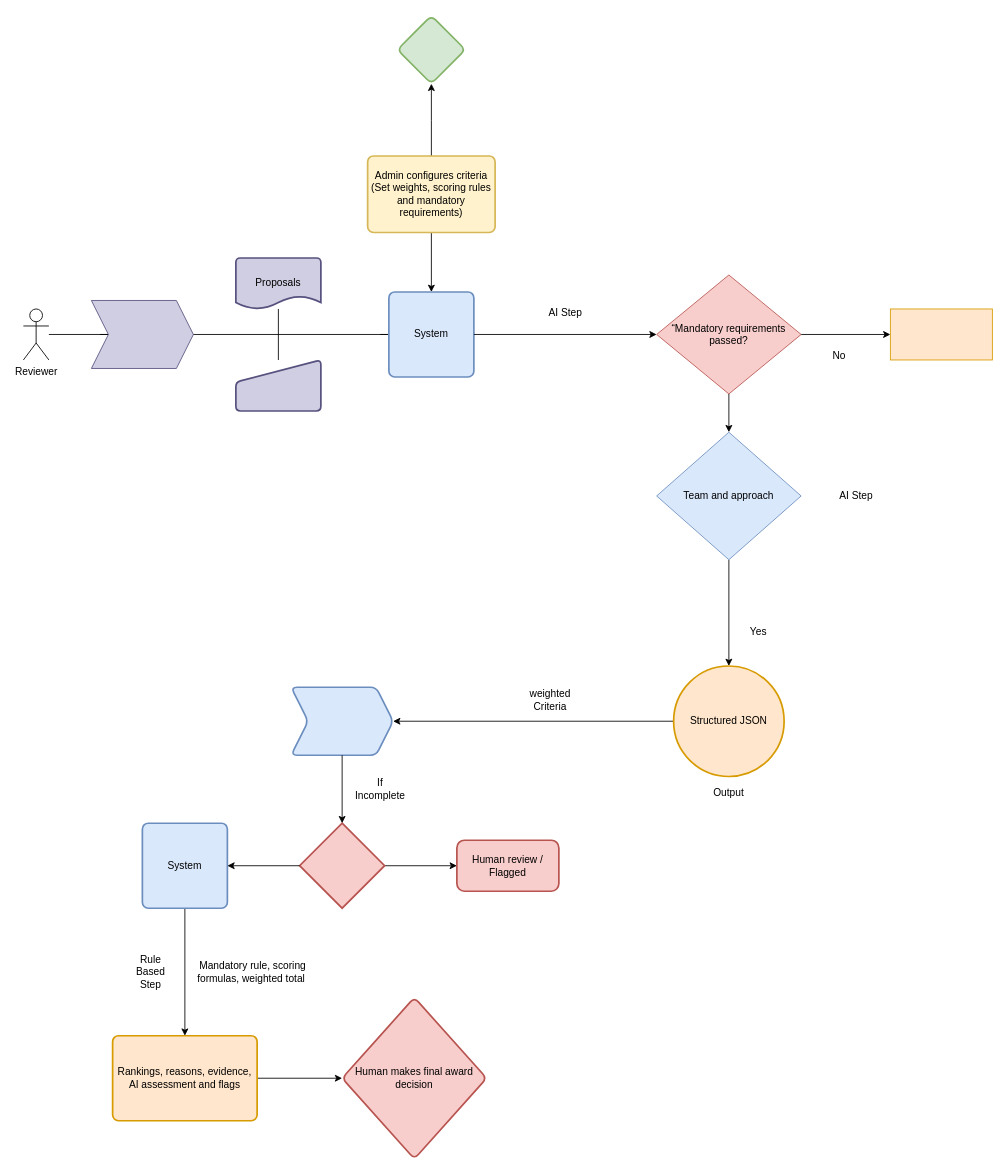
Image size: 1007x1174. Some labels were removed from this diagram. The centre of each missing label's shape, as x and y in pixels:
"1ST" belongs at point (431, 49).
"Ineligible" belongs at point (941, 334).
"NO | YES" belongs at point (341, 865).
"Prompts" belongs at point (278, 385).
"Upload" belongs at point (142, 334).
"Validate extracted data" belongs at point (342, 721).
